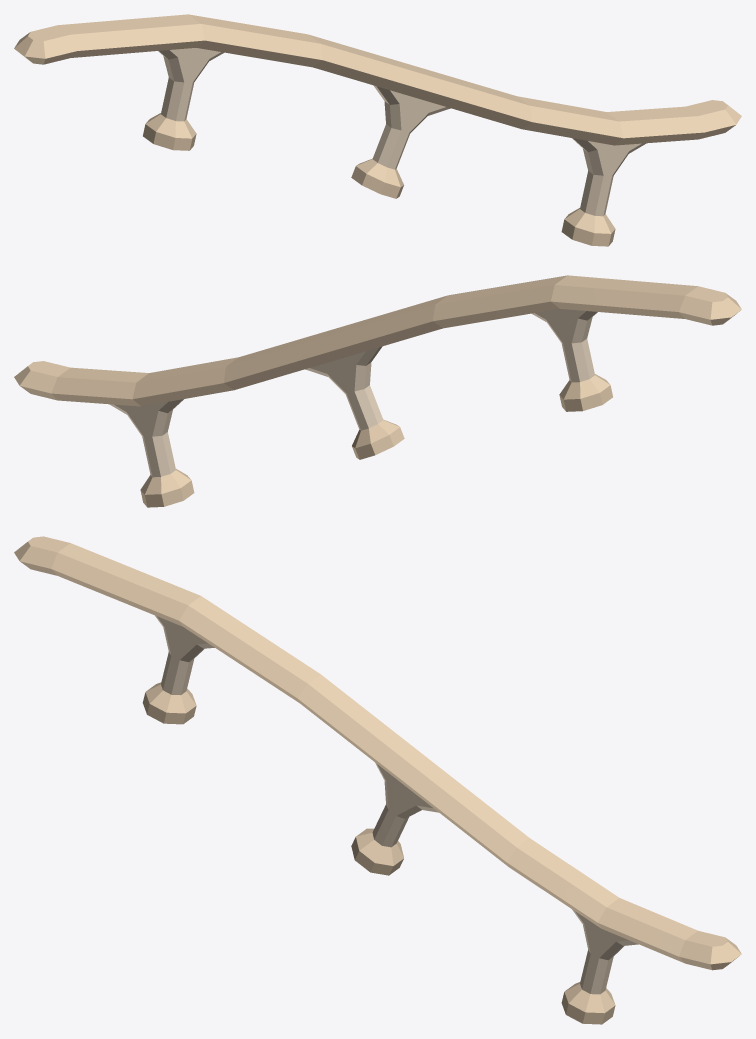
Rendered from opengameart-modular-temple-3d-models-2_5.glb.
The picture shows the model from 3 angles, top to bottom: view 1: azimuth 30°, elevation 25°; view 2: azimuth 150°, elevation 25°; view 3: azimuth 330°, elevation 25°; orthographic projection.
Visible parts, largest first — view 1: object1; view 2: object1; view 3: object1.
Part boxes in pixels (x1,y1,x2,y2): object1: (14, 14, 741, 246); object1: (14, 275, 741, 507); object1: (14, 536, 741, 1024).
Size of the model in its own units: 3.2 by 1.45 by 0.2.
